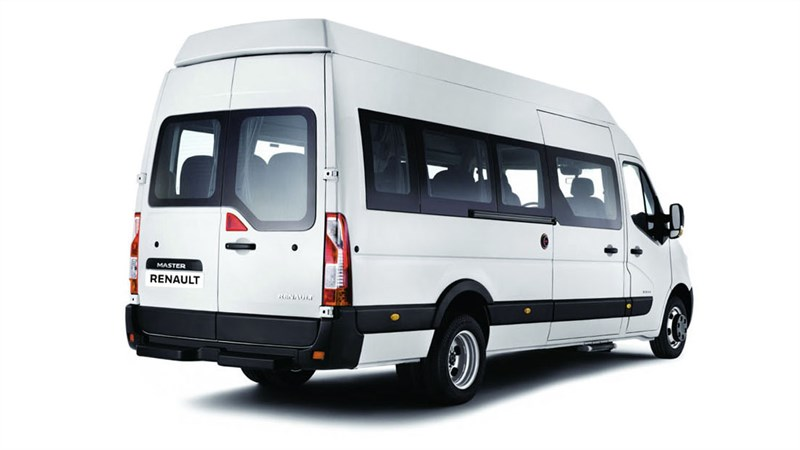van: (127, 18, 692, 406)
